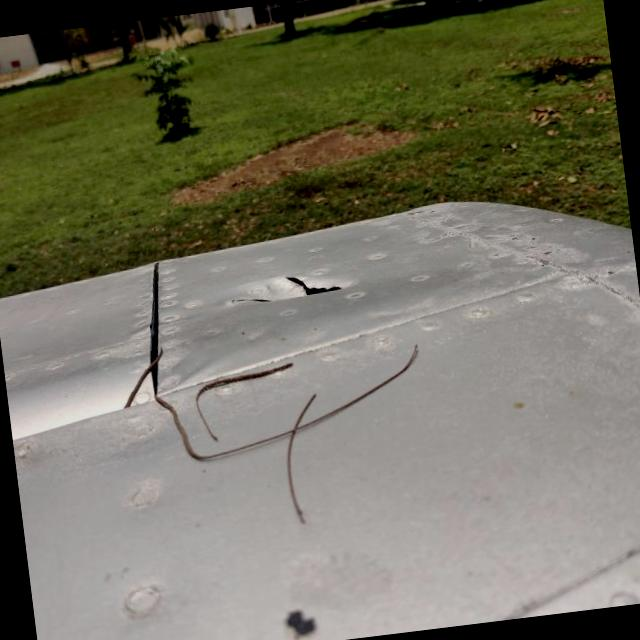crack: (216, 253, 370, 316)
